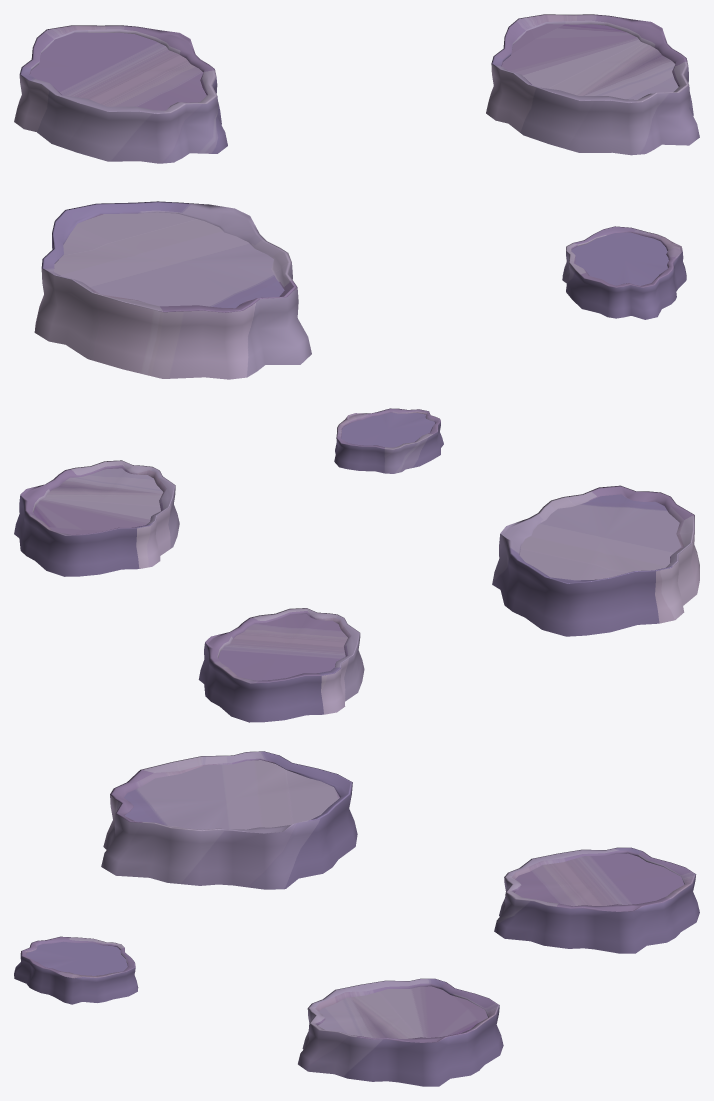
Rendered from mizuba_set_02.fbx.
The picture shows the model from 3 angles, top to bottom: view 1: azimuth 30°, elevation 25°; view 2: azimuth 150°, elevation 25°; view 3: azimuth 270°, elevation 25°; orthographic projection. The views are drawn at different scales.
Visible parts, largest first — view 1: mizuba_top, mizuba_middle, mizuba_under01, mizuba_under02; view 2: mizuba_top, mizuba_middle, mizuba_under01, mizuba_under02; view 3: mizuba_top, mizuba_middle, mizuba_under01, mizuba_under02.
Boxes of the visible parts, x1,y1,x2,y2 form: mizuba_top: (34, 201, 311, 379); mizuba_middle: (486, 14, 699, 155); mizuba_under01: (14, 25, 227, 163); mizuba_under02: (562, 226, 686, 319); mizuba_top: (492, 485, 699, 636); mizuba_middle: (14, 460, 179, 576); mizuba_under01: (198, 608, 364, 722); mizuba_under02: (334, 408, 443, 473); mizuba_top: (101, 751, 357, 889); mizuba_middle: (298, 978, 503, 1086); mizuba_under01: (494, 847, 699, 953); mizuba_under02: (14, 936, 138, 1004).
Bounding box in the file's own units: 22803 × 2105 × 22653.
Materials: 1 (1 with a texture image).
